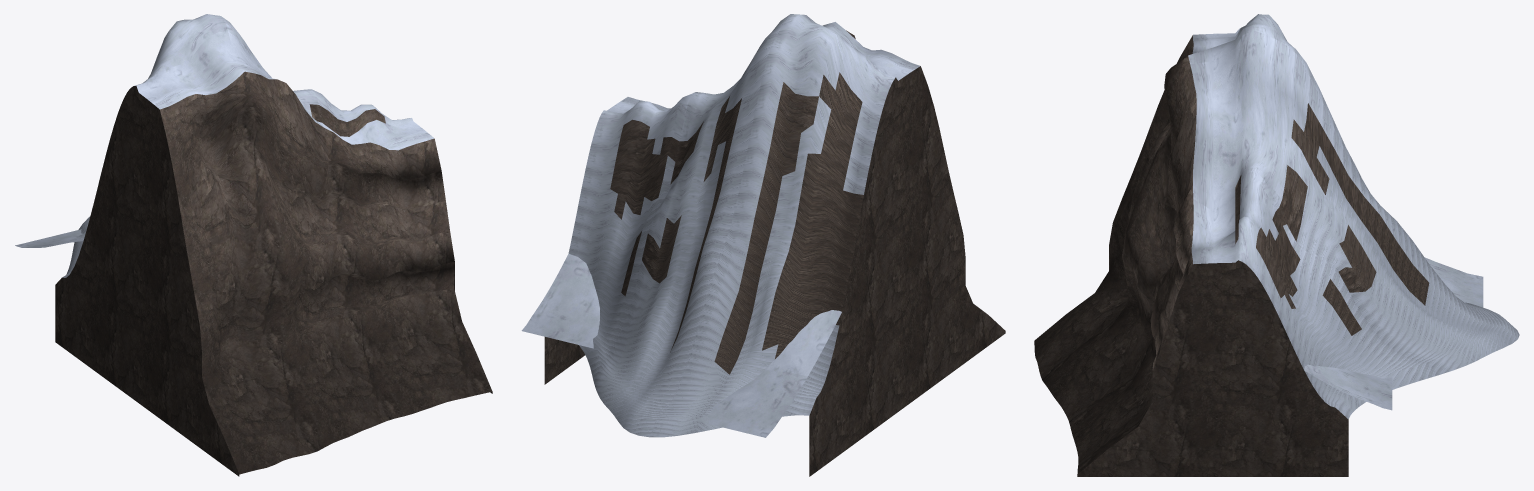
Rendered from seacliff_step_h5h3_v5_winter.glb.
3 views of the same model, side by side, from view 1: azimuth 30°, elevation 25°; view 2: azimuth 150°, elevation 25°; view 3: azimuth 270°, elevation 25° (orthographic). The views are drawn at different scales.
Parts seen in each view (by area): view 1: seacliff_step_h5h3; view 2: seacliff_step_h5h3; view 3: seacliff_step_h5h3.
Boxes of the visible parts, x1=… form: seacliff_step_h5h3: x1=15, y1=14, x2=492, y2=476; seacliff_step_h5h3: x1=521, y1=14, x2=1005, y2=476; seacliff_step_h5h3: x1=1034, y1=14, x2=1519, y2=476.
Size of the model in its own units: 6 by 7.5 by 9.2.
Materials: 2 (2 with a texture image).
